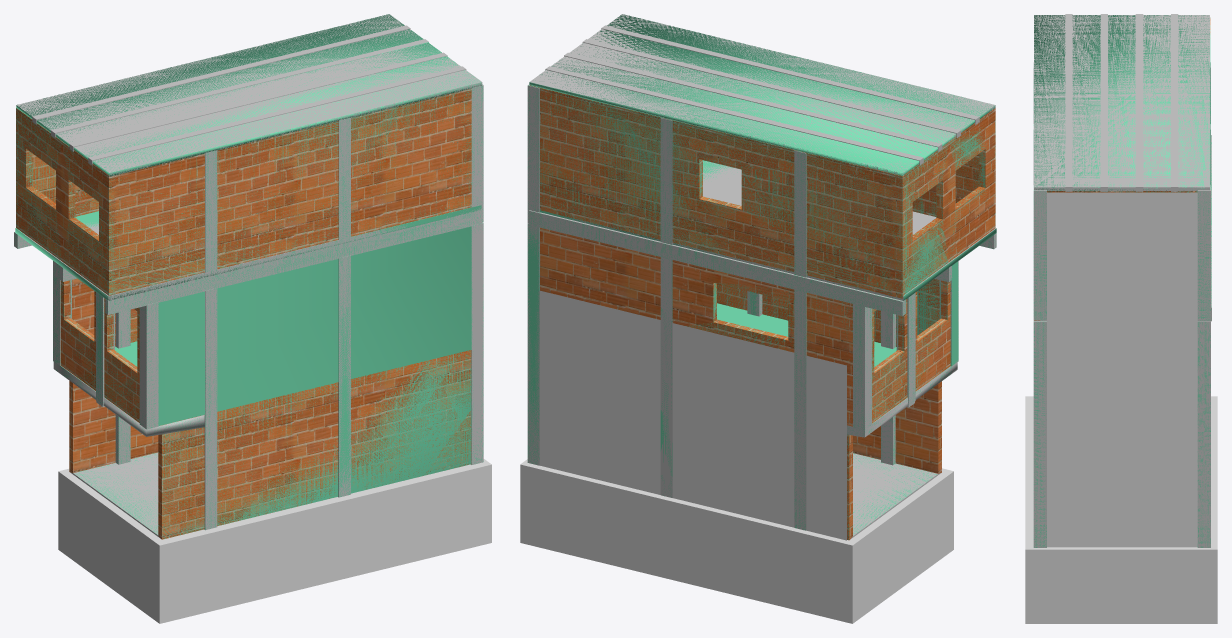
Rendered from CASA 16.fbx.
The picture shows the model from 3 angles, left to right: view 1: azimuth 30°, elevation 25°; view 2: azimuth 150°, elevation 25°; view 3: azimuth 270°, elevation 25°; orthographic projection. The views are drawn at different scales.
Parts seen in each view (by area): view 1: Casa16_LOD0, UTM_Casa16, Cube_LOD0; view 2: Casa16_LOD0, UTM_Casa16, OCC_Oclusion1, Cube_LOD0; view 3: OCC_Oclusion2, Casa16_LOD0, UTM_Casa16, Cube_LOD0.
Part boxes in pixels (left/top/right/bottom): Casa16_LOD0: left=14, top=14, right=483, bottom=539; UTM_Casa16: left=14, top=14, right=483, bottom=538; Cube_LOD0: left=58, top=459, right=491, bottom=623; Casa16_LOD0: left=527, top=14, right=996, bottom=540; UTM_Casa16: left=527, top=14, right=996, bottom=539; OCC_Oclusion1: left=539, top=290, right=846, bottom=540; Cube_LOD0: left=520, top=459, right=953, bottom=623; OCC_Oclusion2: left=1040, top=192, right=1197, bottom=547; Casa16_LOD0: left=1033, top=14, right=1211, bottom=547; UTM_Casa16: left=1033, top=15, right=1211, bottom=547; Cube_LOD0: left=1025, top=396, right=1217, bottom=623.
Size of what is drawn, in the model's own units: 1013 by 1173 by 469.
